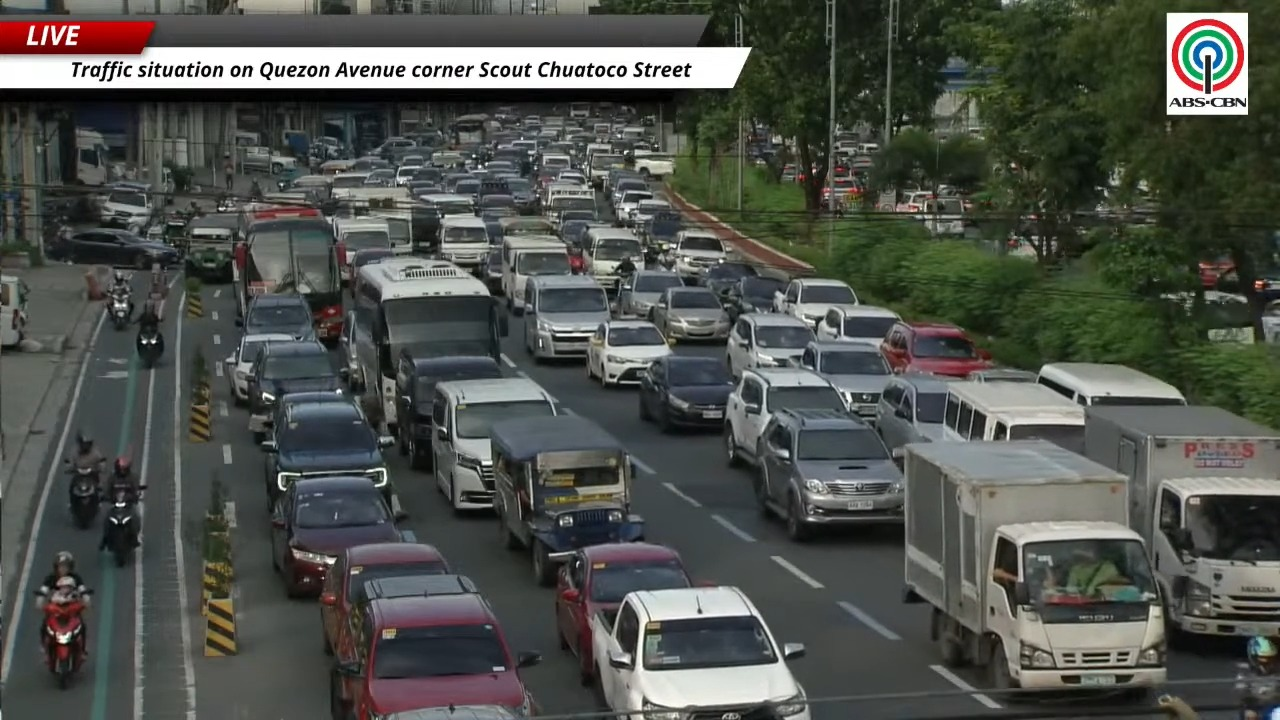bus: (351, 256, 508, 435), (233, 204, 342, 344), (449, 114, 489, 144)
car: (331, 593, 540, 717), (555, 542, 693, 684), (755, 409, 903, 541), (430, 377, 557, 512), (271, 475, 401, 596), (320, 542, 451, 654), (261, 401, 393, 503), (396, 348, 502, 468), (331, 573, 477, 657), (724, 368, 846, 466), (247, 339, 344, 441), (795, 340, 891, 421), (638, 355, 734, 430), (875, 372, 956, 455), (880, 322, 993, 377), (586, 320, 672, 386), (726, 313, 815, 376), (49, 228, 179, 268), (224, 334, 296, 404), (650, 287, 731, 340), (775, 278, 859, 326), (816, 305, 900, 345), (236, 295, 314, 338), (616, 269, 682, 318), (273, 391, 362, 426), (670, 230, 727, 280), (723, 277, 785, 321), (99, 183, 153, 233), (348, 247, 394, 298), (337, 310, 362, 393), (699, 261, 758, 296), (615, 189, 653, 226), (628, 198, 671, 226), (480, 247, 502, 294), (965, 368, 1037, 382)
motorcycle: (42, 596, 85, 688), (104, 489, 139, 566), (69, 466, 99, 529), (1238, 676, 1279, 719), (136, 332, 163, 368), (108, 294, 130, 330)
truck: (904, 441, 1165, 693), (1085, 405, 1279, 642), (590, 587, 809, 719), (75, 127, 110, 185), (239, 146, 296, 174)
